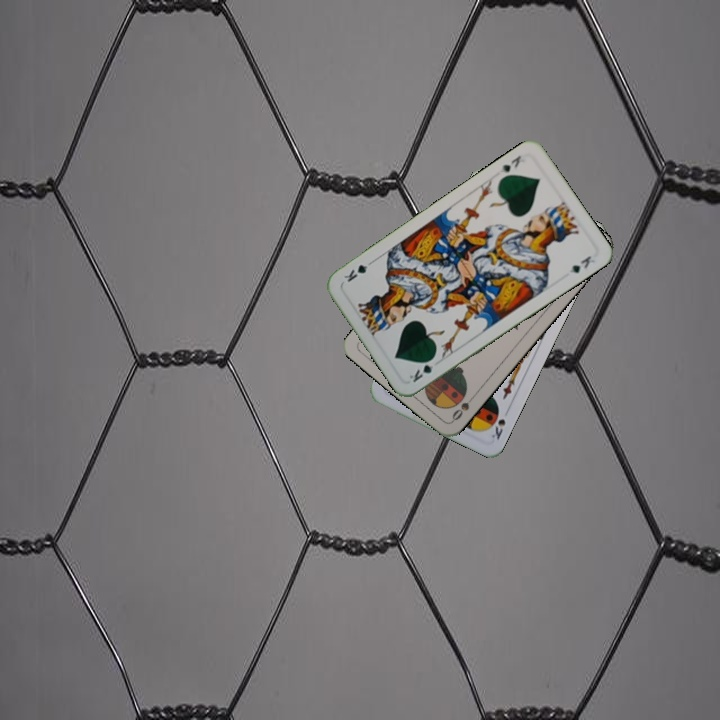GK: (405, 353, 438, 385), (496, 151, 524, 176)
SK: (487, 415, 508, 442)
SO: (448, 390, 478, 424)
